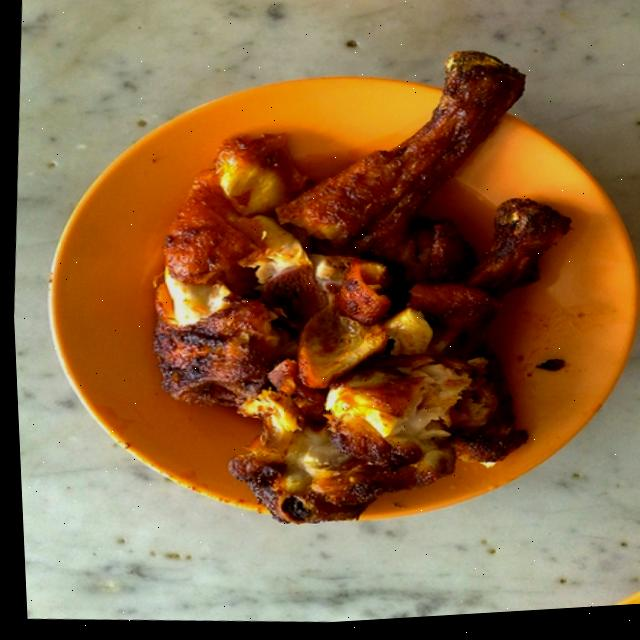鸡肉料理 含炸鸡: (24, 0, 640, 595)
